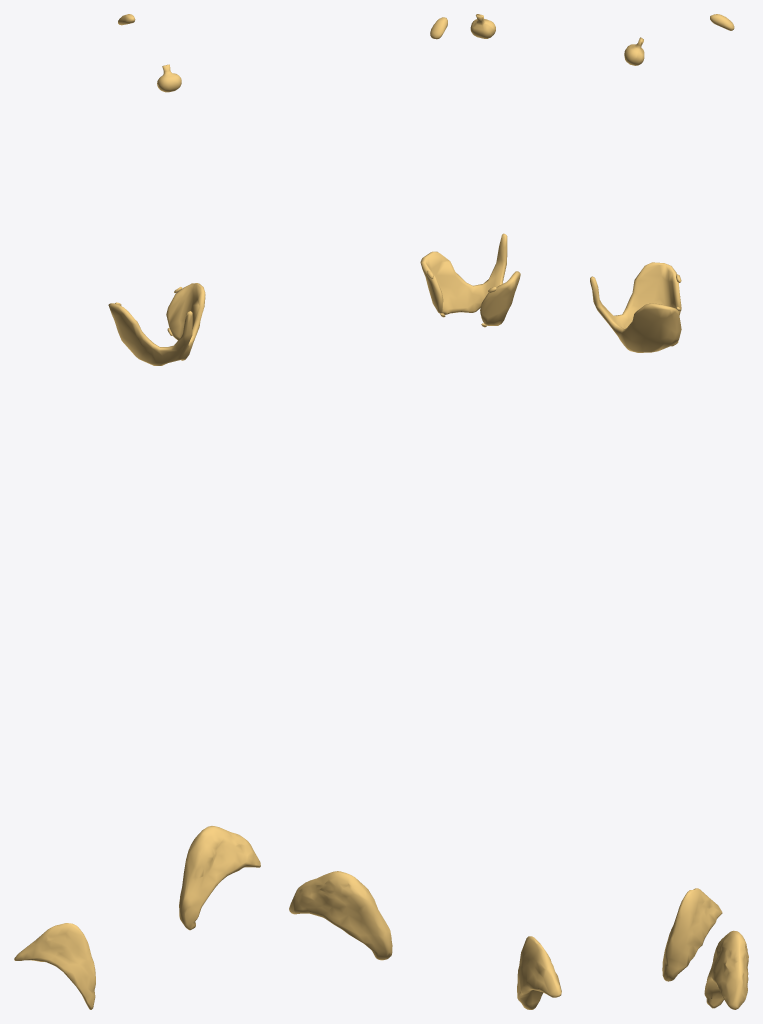
The model's file is endocrine.glb.
3 views of the same model, side by side, from view 1: azimuth 30°, elevation 25°; view 2: azimuth 150°, elevation 25°; view 3: azimuth 270°, elevation 25° (orthographic). The views are drawn at different scales.
Parts seen in each view (by area): view 1: Suprarenal gland.001x, Thyroid gland, Suprarenal gland; view 2: Suprarenal gland.001x, Thyroid gland, Suprarenal gland; view 3: Thyroid gland, Suprarenal gland, Suprarenal gland.001x.
Part boxes in pixels (x1,y1,x2,y2): Suprarenal gland.001x: [179, 826, 260, 930]; Thyroid gland: [108, 283, 205, 365]; Suprarenal gland: [14, 923, 95, 1009]; Suprarenal gland.001x: [289, 871, 392, 960]; Thyroid gland: [420, 233, 520, 325]; Suprarenal gland: [517, 936, 561, 1009]; Thyroid gland: [590, 262, 681, 352]; Suprarenal gland: [662, 888, 722, 981]; Suprarenal gland.001x: [704, 930, 748, 1009].
Size of the model in its own units: 0.9651 by 3.5 by 0.5043.
